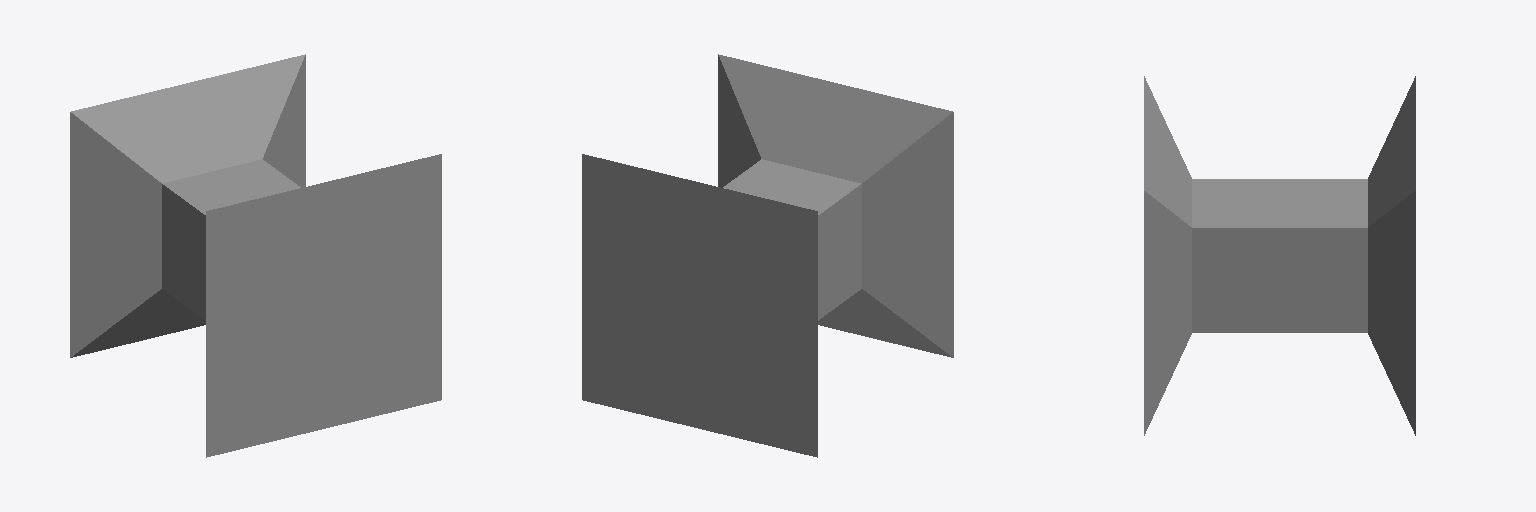
Rendered from door.obj.
3 renders of one model, left to right at view 1: azimuth 30°, elevation 25°; view 2: azimuth 150°, elevation 25°; view 3: azimuth 270°, elevation 25°, orthographic.
Visible parts, largest first — view 1: Cube_Cube.001; view 2: Cube_Cube.001; view 3: Cube_Cube.001.
Boxes of the visible parts, x1,y1,x2,y2 form: Cube_Cube.001: [70, 54, 441, 457]; Cube_Cube.001: [582, 54, 953, 457]; Cube_Cube.001: [1144, 76, 1415, 435].
Size of the model in its own units: 1 by 1 by 1.